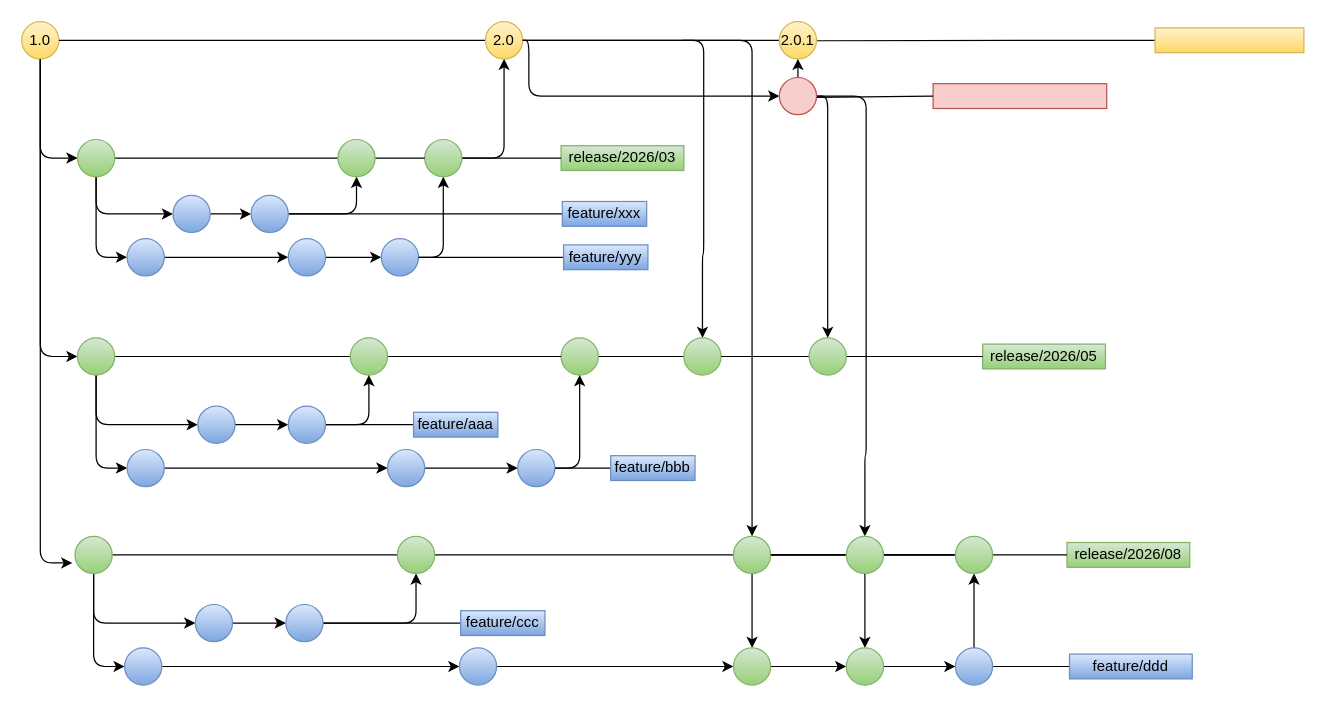
Some shapes in this 1326 by 707 pixel diagram are drawn without their labels. The centre of each missing label's shape, as x and y in pixels:
"main (Long running)" belongs at (x=1229, y=40).
"release/2026/04 (bugfix)" belongs at (x=1019, y=95).
